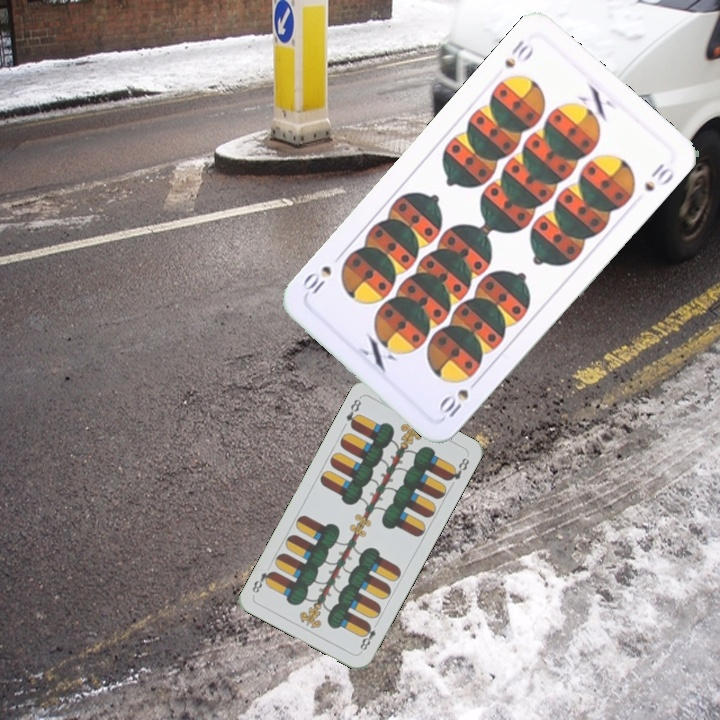E8: (356, 619, 378, 655), (342, 395, 364, 431)
S10: (434, 374, 481, 422), (500, 35, 537, 71)
